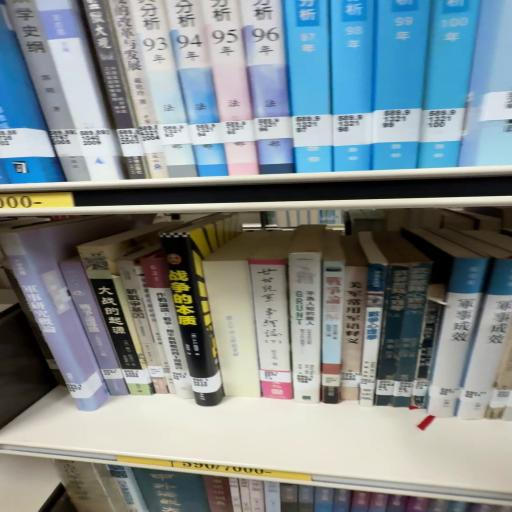backward: (204, 233, 264, 399)
book: (1, 4, 125, 187), (202, 262, 261, 401), (252, 262, 296, 404)
